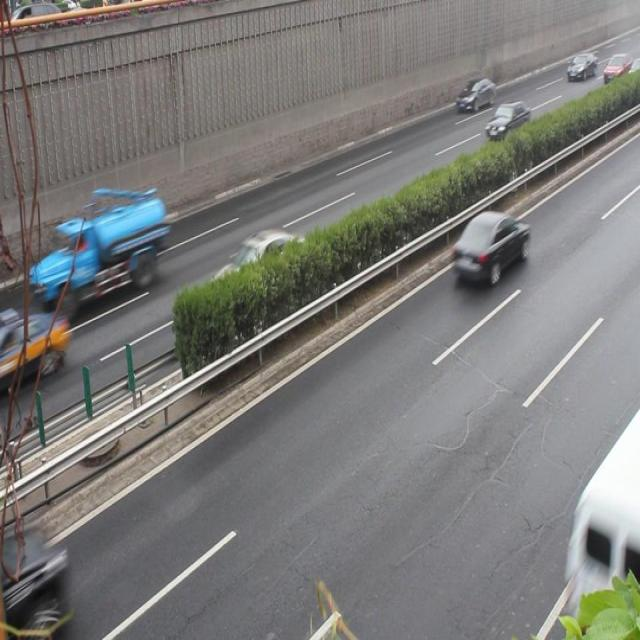bus: (39, 195, 164, 304)
car: (205, 228, 302, 310), (0, 519, 62, 612), (449, 212, 526, 286), (484, 101, 530, 146), (455, 75, 494, 116)
